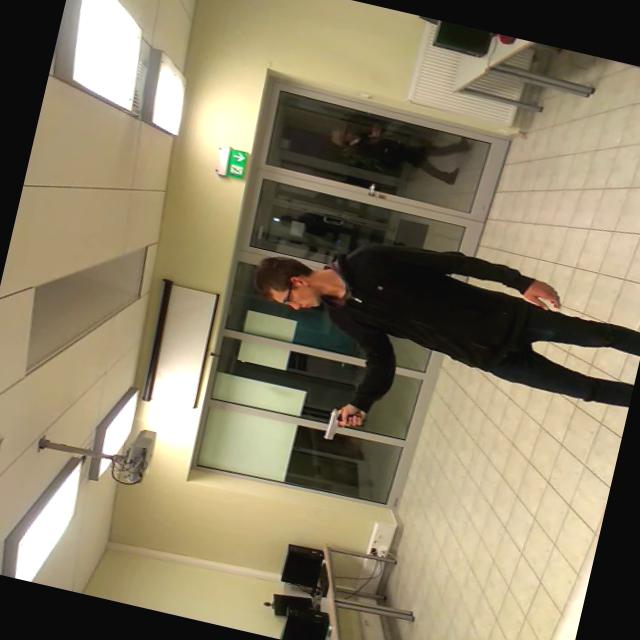handgun: (310, 392, 360, 450)
